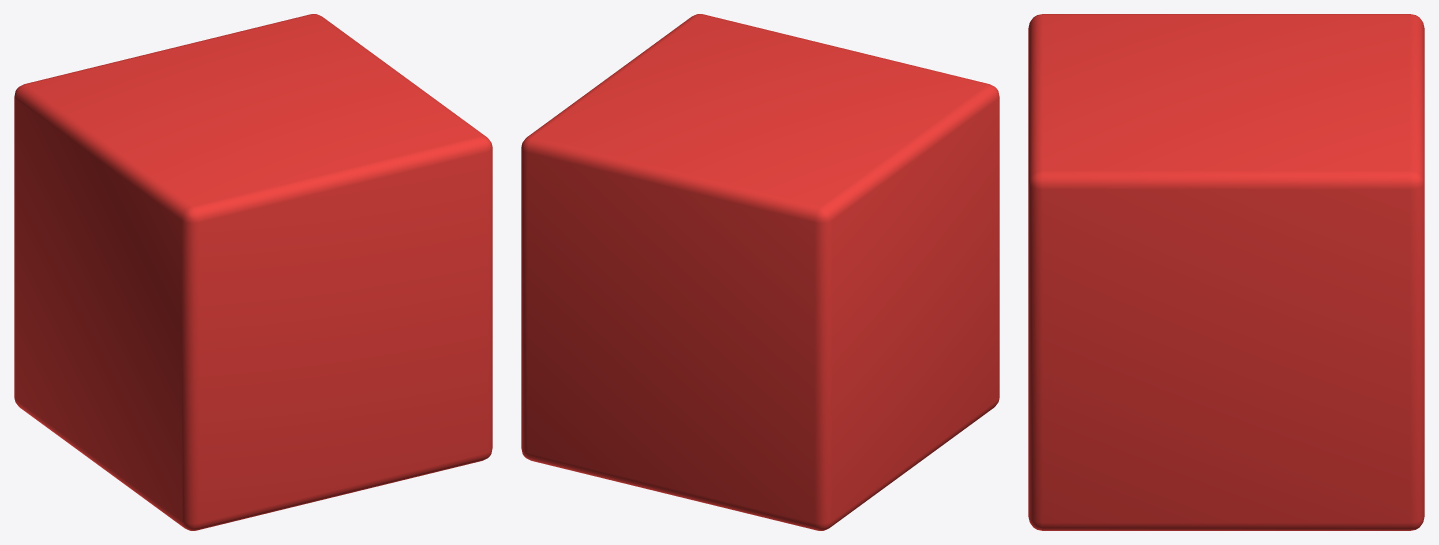
The model's file is red_square.glb.
3 views of the same model, side by side, from view 1: azimuth 30°, elevation 25°; view 2: azimuth 150°, elevation 25°; view 3: azimuth 270°, elevation 25° (orthographic). The views are drawn at different scales.
Parts seen in each view (by area): view 1: red_square; view 2: red_square; view 3: red_square.
Boxes of the visible parts, <box> form: red_square: <box>14,14,492,530</box>; red_square: <box>521,14,999,530</box>; red_square: <box>1028,14,1424,530</box>.
Size of the model in its own units: 1.92 by 1.92 by 1.92.
Materials: 1 (1 with a texture image).
